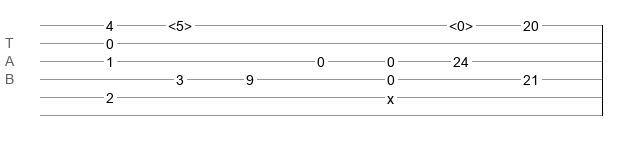0: (106, 36, 114, 46), (317, 54, 325, 64), (387, 54, 395, 64), (387, 72, 395, 82)
1: (106, 54, 114, 64)
2: (106, 90, 114, 100)
20: (523, 18, 539, 28)
21: (523, 72, 539, 82)
24: (453, 54, 469, 64)
3: (176, 72, 184, 82)
4: (106, 18, 114, 28)
9: (246, 72, 254, 82)
harmonic: (168, 18, 192, 28), (449, 18, 473, 28)
x: (387, 91, 394, 99)
